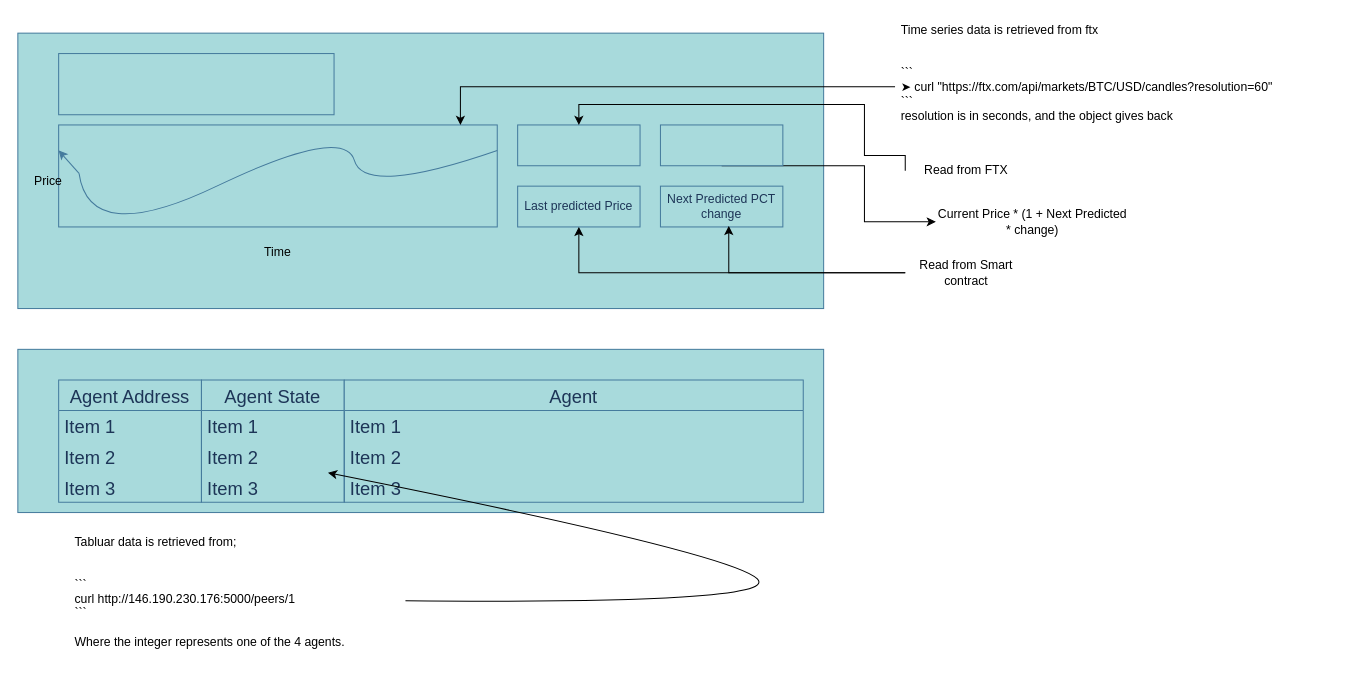
Some shapes in this 1362 by 682 pixel diagram are drawn without their labels. The shapes that lost their labels are listed below. From the top down, each one's centre as x and y in pixels, then its label:
the point at 196,84: BTC-USD Price Prophet
the point at 578,145: Current Price
the point at 721,145: Next Predicted Price
